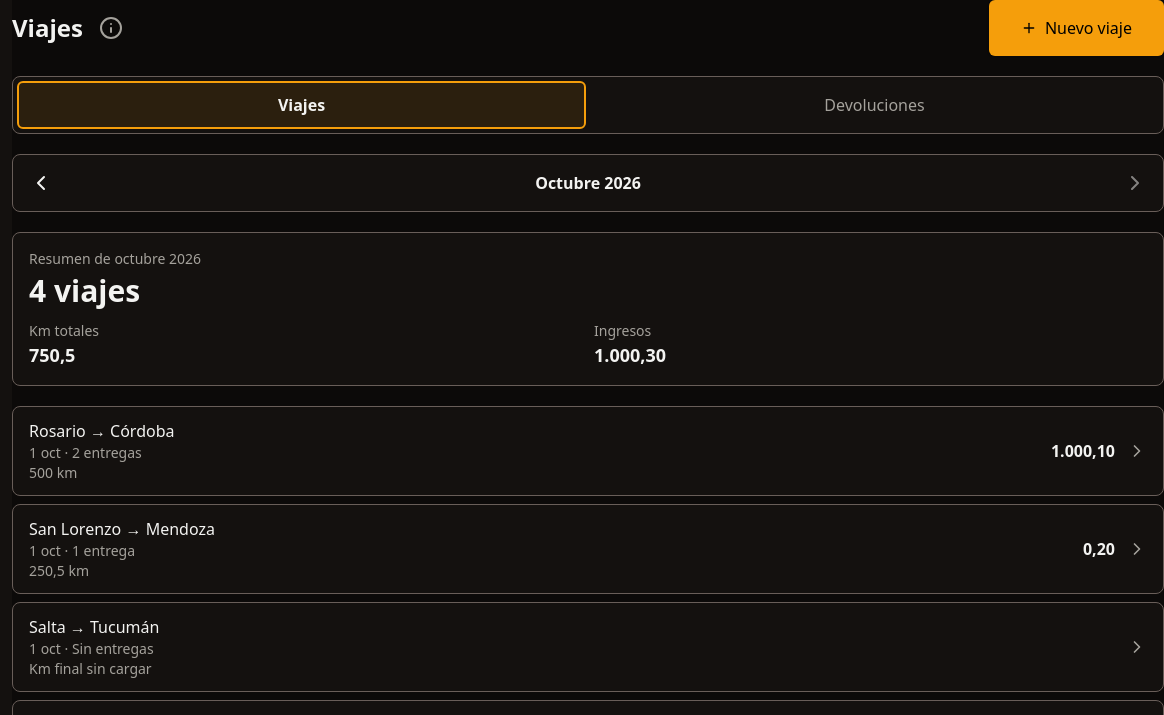
it: lista de viajes: consulta y mes › "Mes anterior" cambia el mes y vuelve a consultar con ese rango; "Mes siguiente" está deshabilitado en el mes actual
Expected: the button named "Mes siguiente" is disabled, [1111,159,1159,207]
Click the button named "Mes anterior" at (41, 183), box [17,159,65,207]
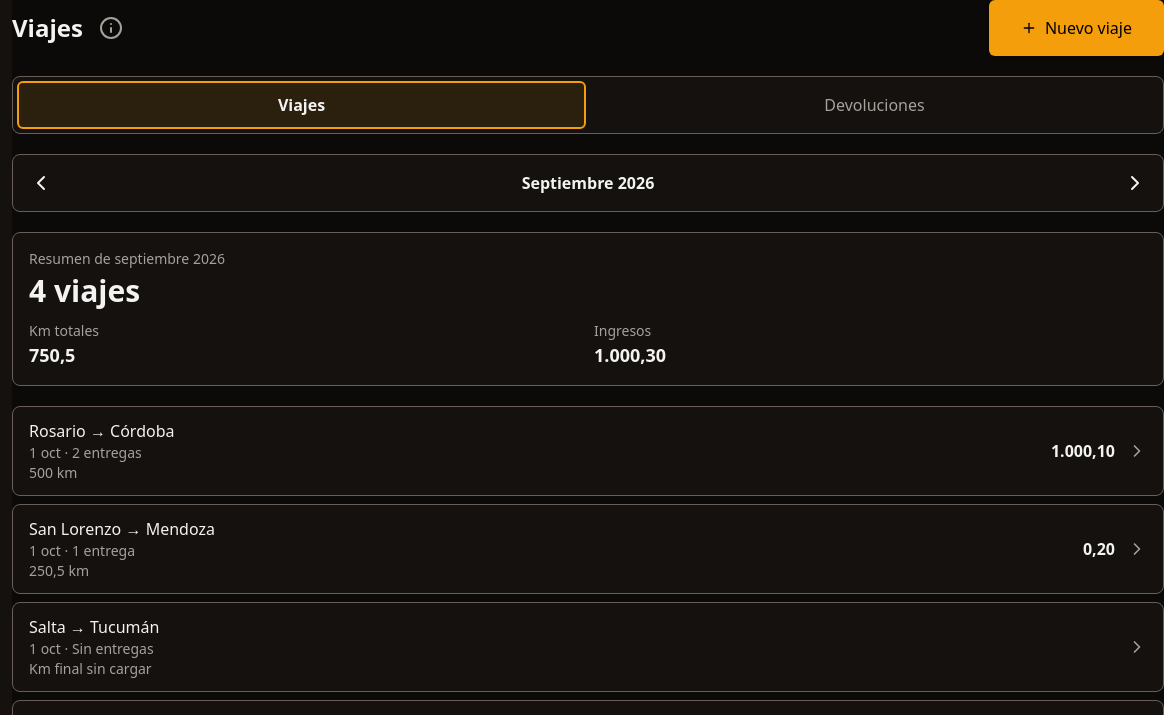
Expected: the button named "Mes siguiente" is enabled, [1111,159,1159,207]
